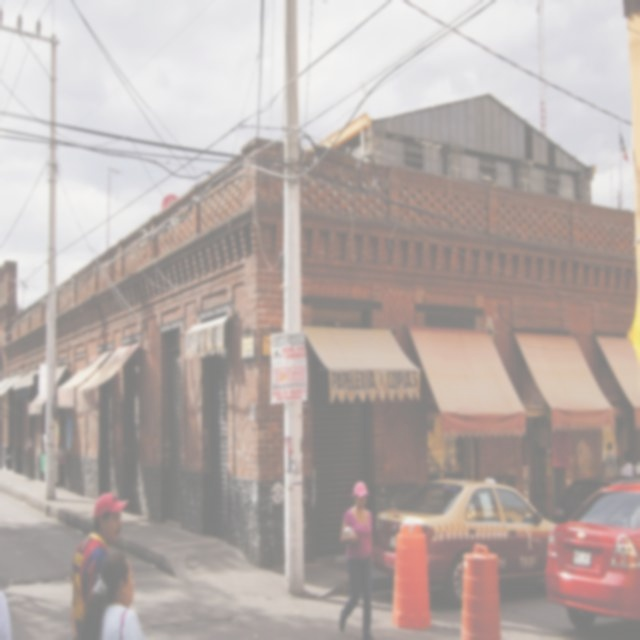pessoa: (70, 490, 128, 640), (338, 480, 378, 640), (78, 552, 148, 640), (0, 591, 16, 640), (620, 450, 635, 477), (604, 440, 617, 470), (426, 443, 437, 476), (634, 452, 640, 477)
